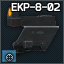Axion Kobra EKP-8-02 reflex sight Dovetail: (0, 0, 64, 64)
